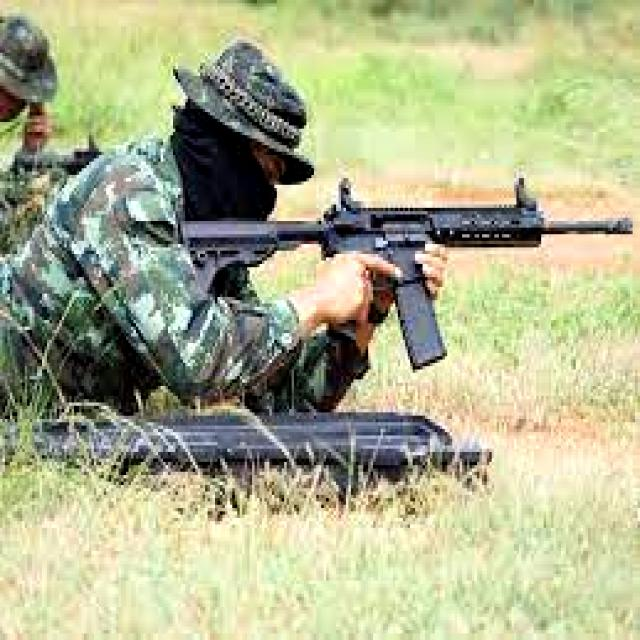m16: (174, 115, 638, 382)
